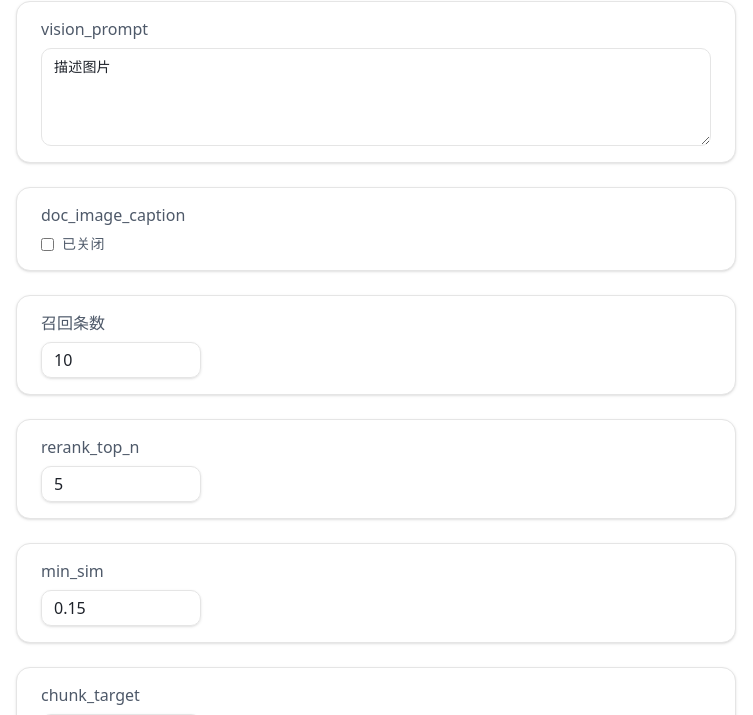
it: 配置中心 › 改一项 → PUT 只带该项；保存后提示已保存
The image size is (753, 715).
(page scrolled)
Replace the text in the number field labelled "召回条数" with "12". click: (121, 360)
box: x1=41 y1=342 x2=201 y2=378
(page scrolled)
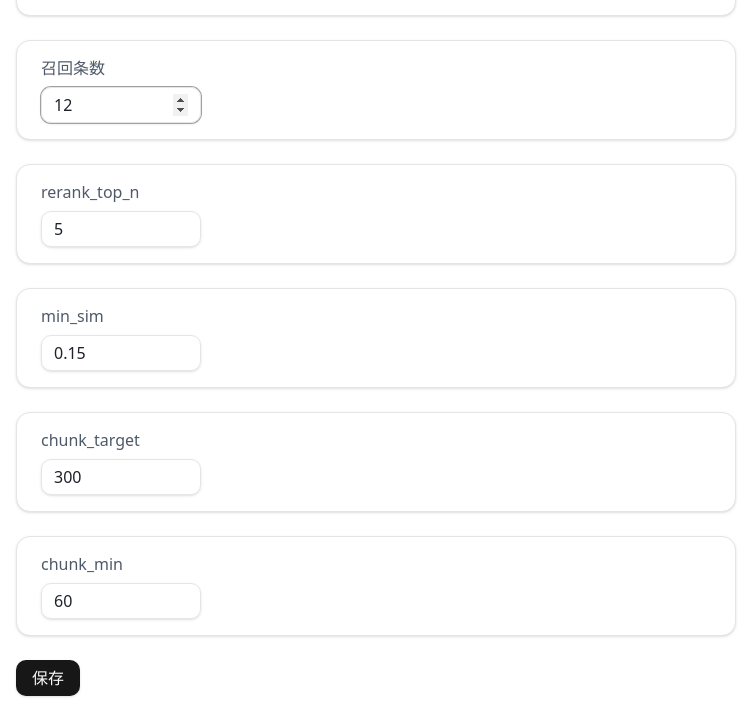
Click the button "保存". click: (48, 678)
box: x1=16 y1=660 x2=80 y2=696
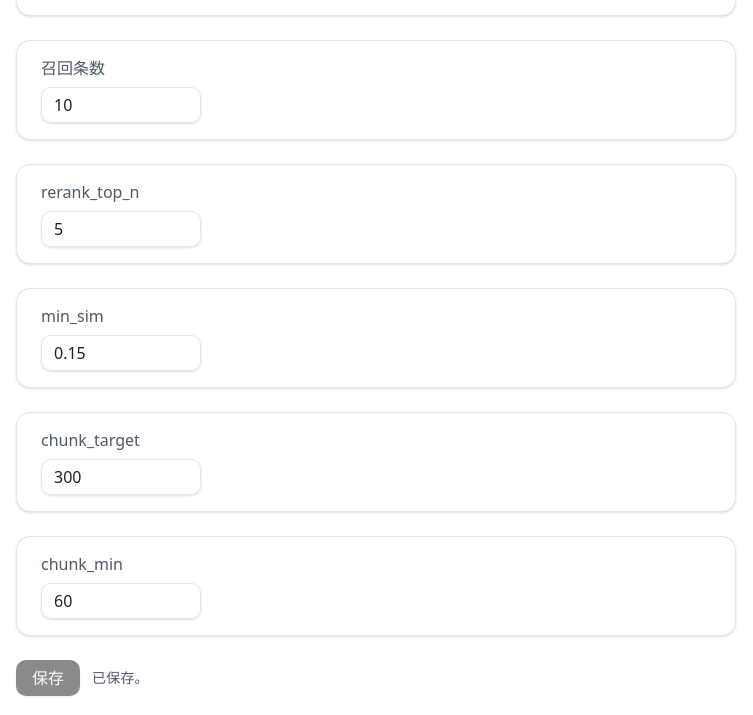
expect the text "已保存。" is shown: met, box x1=92 y1=668 x2=149 y2=688
